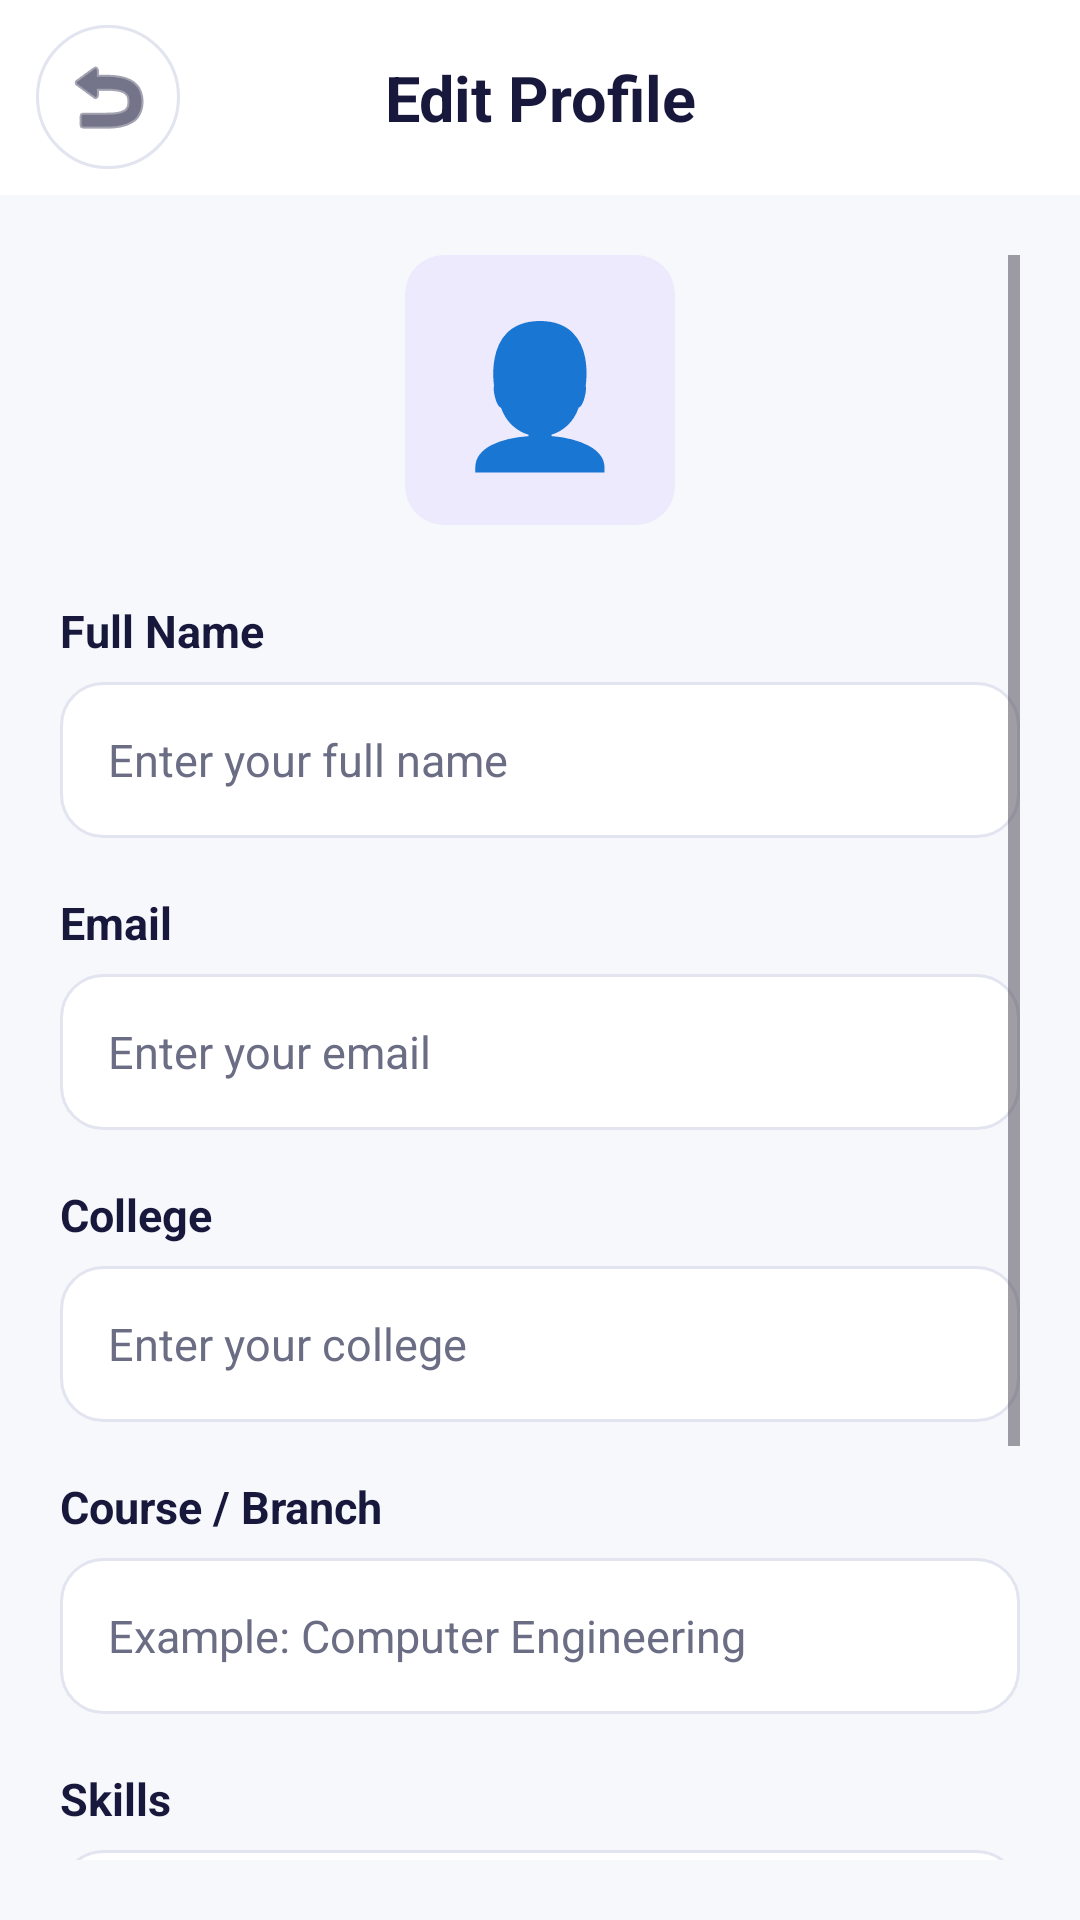

Icon bounding boxes for this 1080x1920 phone screenshot, format (x1, y1, x2, y2):
Back: (36, 25, 180, 169)
